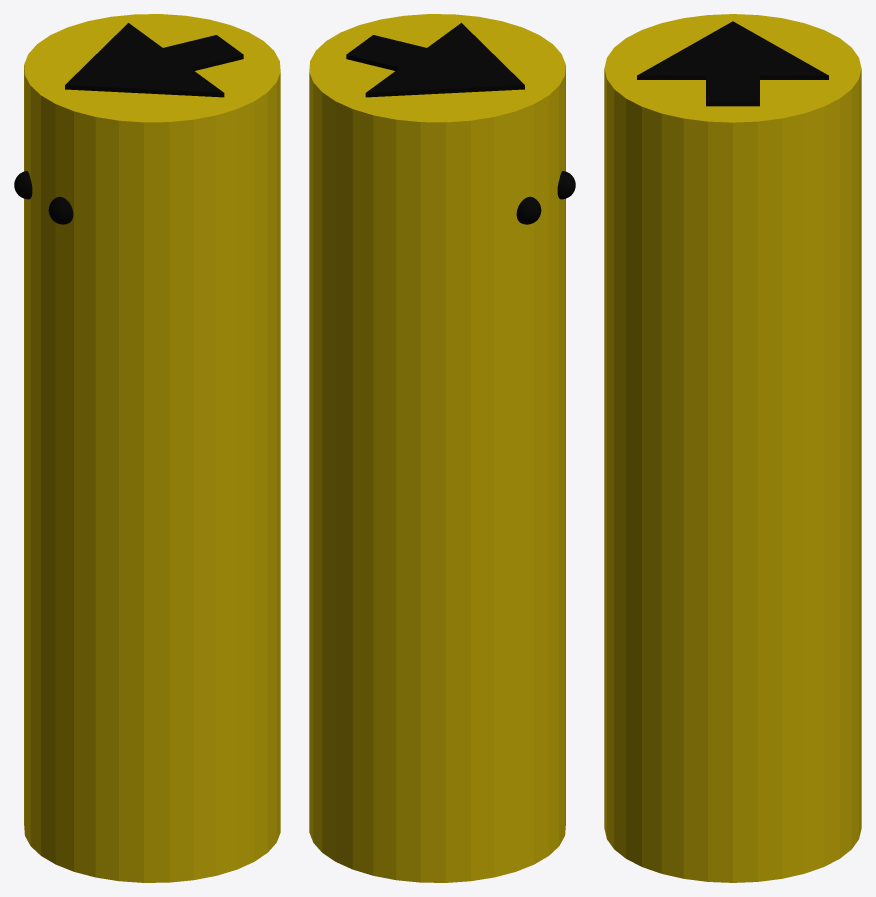
3 views of the same model, side by side, from view 1: azimuth 30°, elevation 25°; view 2: azimuth 150°, elevation 25°; view 3: azimuth 270°, elevation 25° (orthographic).
Visible parts, largest first — view 1: Cylinder_Cylinder_Material.003, Cylinder_Cylinder_SVGMat; view 2: Cylinder_Cylinder_Material.003, Cylinder_Cylinder_SVGMat; view 3: Cylinder_Cylinder_Material.003, Cylinder_Cylinder_SVGMat.
Part boxes in pixels (<box>): Cylinder_Cylinder_Material.003: <box>24,14,280,882</box>; Cylinder_Cylinder_SVGMat: <box>14,23,243,224</box>; Cylinder_Cylinder_Material.003: <box>309,14,565,882</box>; Cylinder_Cylinder_SVGMat: <box>346,23,575,224</box>; Cylinder_Cylinder_Material.003: <box>604,14,861,882</box>; Cylinder_Cylinder_SVGMat: <box>637,21,828,106</box>.
Bounding box in the file's own units: 0.1612 × 0.5117 × 0.1559.
